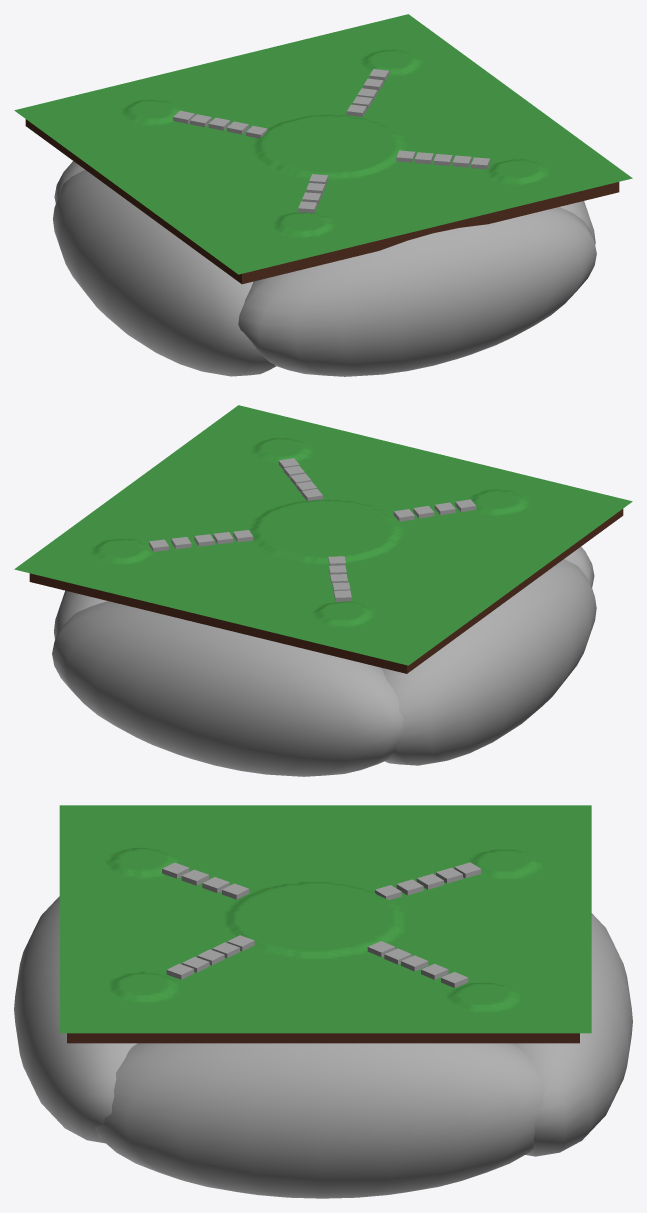
File: Terreno Isla Biblioteca.fbx
The picture shows the model from 3 angles, top to bottom: view 1: azimuth 30°, elevation 25°; view 2: azimuth 150°, elevation 25°; view 3: azimuth 270°, elevation 25°; orthographic projection. The views are drawn at different scales.
Parts seen in each view (by area): view 1: pPlane1, pSphere3, pSphere2, pCube20; view 2: pPlane1, pSphere1, pSphere2, pCube20, pSphere4; view 3: pPlane1, pSphere4, pSphere3, pSphere1, pCube20.
Boxes of the visible parts, left/top/right/bottom form: pPlane1: left=14, top=14, right=632, bottom=274; pSphere3: left=238, top=207, right=596, bottom=376; pSphere2: left=53, top=170, right=276, bottom=376; pCube20: left=25, top=119, right=619, bottom=284; pPlane1: left=14, top=405, right=632, bottom=665; pSphere1: left=52, top=601, right=404, bottom=776; pSphere2: left=381, top=559, right=596, bottom=765; pCube20: left=29, top=509, right=623, bottom=673; pSphere4: left=54, top=590, right=107, bottom=639; pPlane1: left=59, top=805, right=591, bottom=1033; pSphere4: left=94, top=1043, right=544, bottom=1198; pSphere3: left=14, top=896, right=136, bottom=1143; pSphere1: left=514, top=913, right=632, bottom=1156; pCube20: left=67, top=1033, right=579, bottom=1043.
Size of the model in its own units: 61.26 by 22.5 by 63.65.
